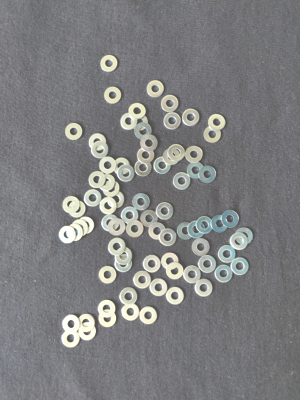circle: (64, 121, 84, 143), (144, 80, 166, 99), (99, 53, 119, 73), (61, 315, 82, 334), (160, 94, 179, 114), (163, 111, 182, 131), (203, 126, 222, 146), (100, 214, 120, 233), (98, 265, 117, 285), (192, 237, 211, 257), (105, 85, 123, 106), (92, 141, 111, 160), (199, 165, 218, 184), (148, 222, 167, 241), (187, 220, 206, 239), (215, 265, 234, 284), (195, 279, 214, 298), (183, 265, 202, 284), (128, 102, 148, 120), (106, 191, 126, 209), (77, 217, 95, 237), (126, 219, 144, 239), (211, 214, 229, 234), (108, 237, 126, 257), (122, 302, 140, 322), (141, 305, 159, 325), (78, 323, 98, 341), (182, 109, 201, 127), (209, 113, 227, 132), (120, 113, 139, 131), (134, 122, 153, 140), (89, 132, 107, 151), (99, 156, 117, 175), (185, 146, 204, 164), (187, 161, 206, 179), (154, 156, 172, 175), (173, 172, 192, 190), (133, 192, 151, 211), (140, 209, 158, 228), (160, 228, 178, 247), (177, 222, 195, 241), (230, 232, 249, 250), (231, 258, 250, 276), (198, 255, 216, 274), (160, 253, 179, 271), (143, 255, 162, 273), (149, 280, 168, 298), (119, 287, 138, 305), (62, 331, 81, 349), (66, 224, 83, 244), (114, 256, 134, 273), (223, 209, 239, 230), (136, 159, 154, 177), (98, 174, 116, 192), (236, 227, 254, 245), (166, 288, 184, 306), (134, 271, 152, 289), (98, 300, 116, 318), (100, 310, 118, 328), (137, 147, 156, 164), (68, 201, 87, 218), (122, 206, 139, 225), (198, 216, 215, 235), (114, 247, 133, 264), (218, 245, 235, 264), (79, 314, 96, 333), (132, 114, 150, 131), (141, 134, 159, 151), (113, 157, 130, 175), (118, 165, 136, 182), (103, 180, 120, 198), (85, 189, 102, 207), (62, 196, 80, 213), (108, 219, 126, 236), (157, 202, 174, 220), (166, 262, 183, 280), (59, 226, 75, 245), (100, 198, 117, 215), (168, 144, 185, 161), (89, 171, 105, 189), (73, 219, 89, 237), (164, 149, 180, 166)
